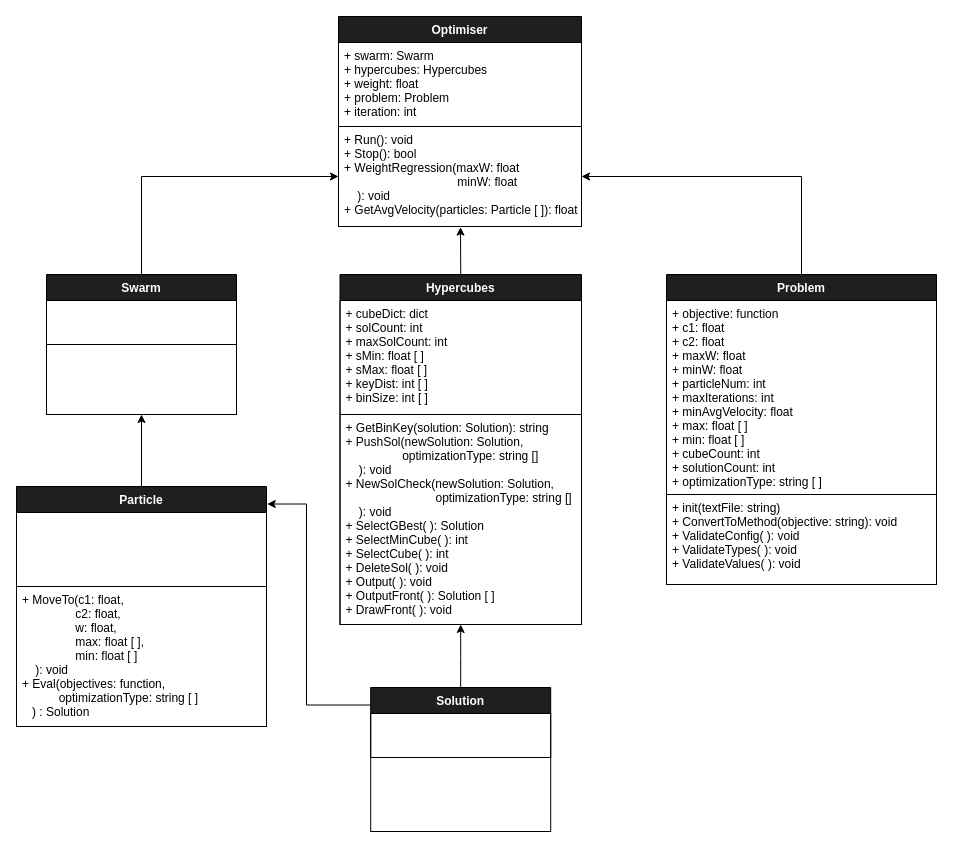
Image size: 953x848. Some labels were removed from this diagram. Here are the shapes that lost their labels. From the top down, the centre of each, then its label:
At pixel 141 322: "+ particles: Particle [ ] + evalCount: int".
At pixel 141 379: "+ init(particleNum: int, max: float [ ], min: float [ ] )".
At pixel 141 549: "+ pBest: Solution + sBest: Solution + x: float [ ] + velocity: float [ ]".
At pixel 460 735: "+ x: float [ ] + objectives: float [ ]".
At pixel 460 794: "+ Dominated( solution: Solution, optimizationType: string [ ] ): int".
